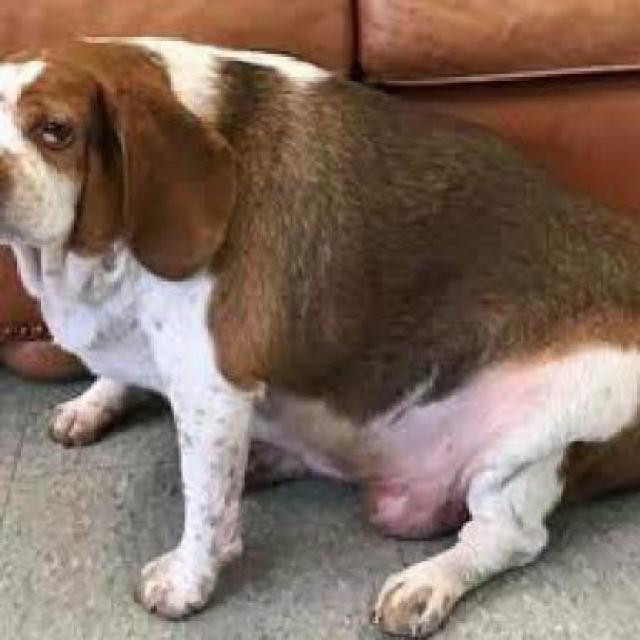Dog: (0, 31, 637, 637)
